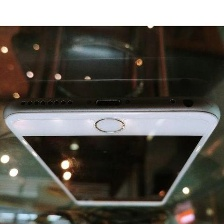phone: (0, 91, 221, 210)
